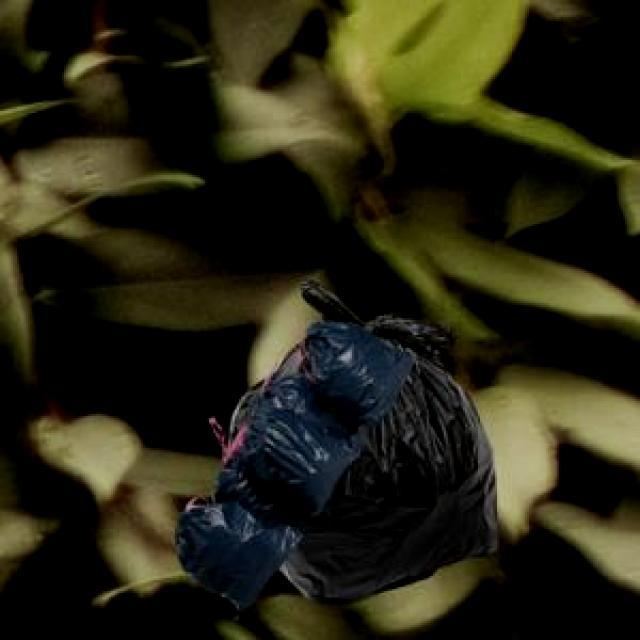Trashbag: (184, 484, 297, 598), (238, 387, 352, 499), (310, 317, 418, 414)
